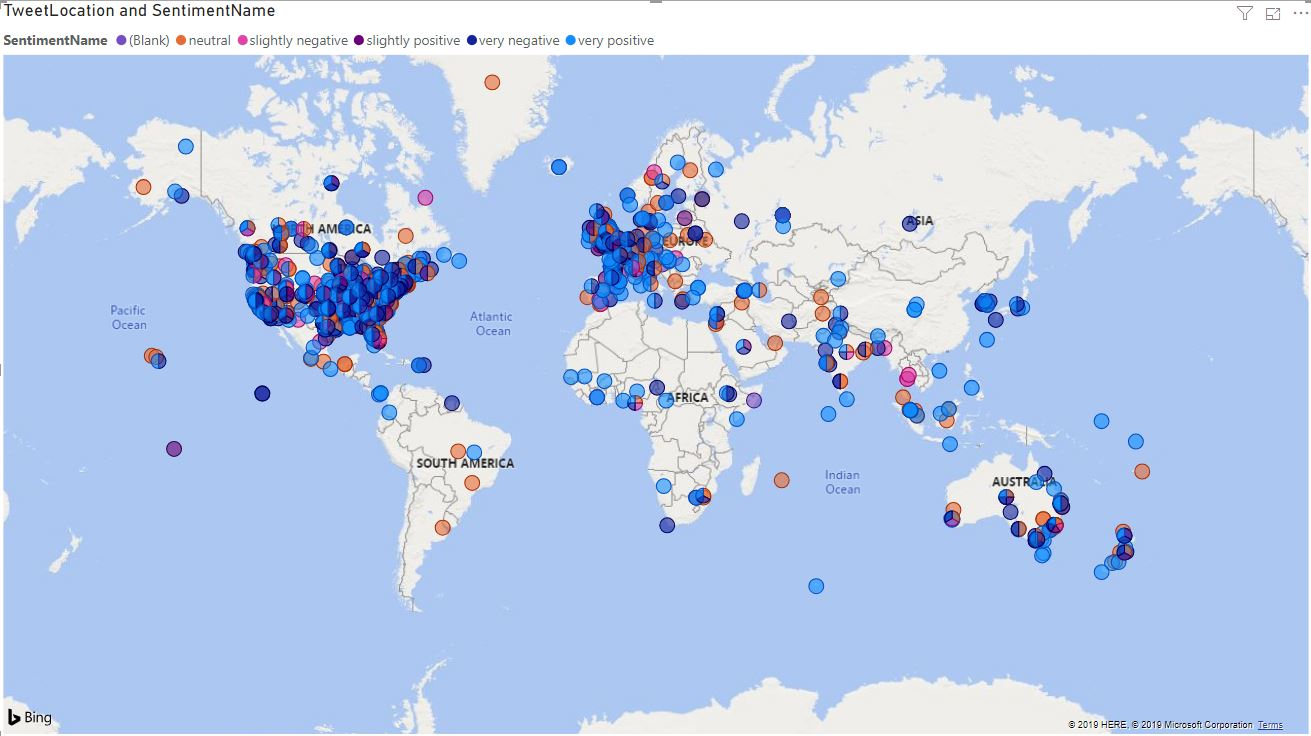

The dashboard page shown, as its layout file describes it:
{"tool":"powerbi","page":{"name":"mapped","canvas":[1280,720],"ordinal":3},"visuals":[{"type":"map","fields":{"Category":["TwitterAssignmentDB TweetData.TweetLocation"],"Series":["TwitterAssignmentDB SentimentValue.SentimentName"]},"box":[0,0,1280,719.8],"z":0}]}

Visuals, with their boxes in screenshot pixels (x1, y1, x2, y2), scaled from the page's 1280x720 canvas onto the 1311x736 screenshot:
map - TwitterAssignmentDB TweetData.TweetLocation x TwitterAssignmentDB SentimentValue.SentimentName: l=0, t=0, r=1310, b=735
